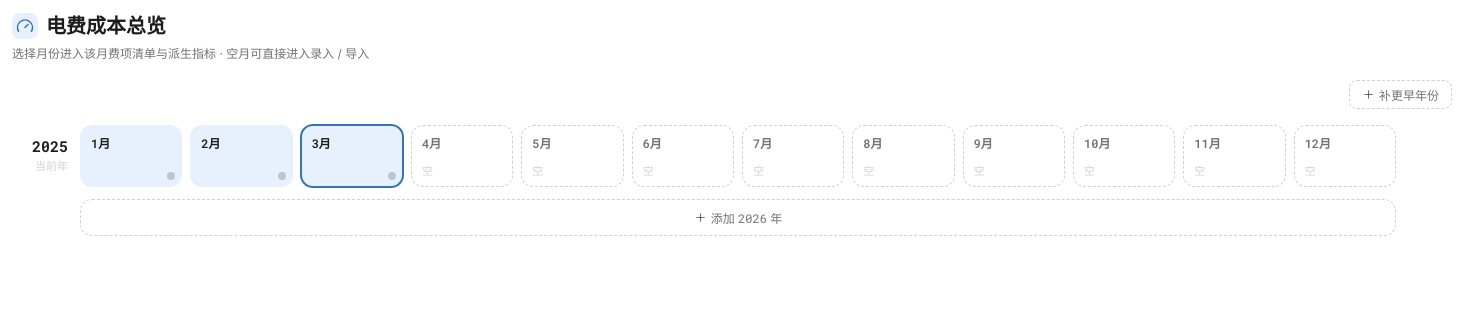
Test: 电费成本总览 · 首败不转圈 › ❗第一次选期就失败 → 失败条 + 重试,不是永久转圈
Click the button with class "bmm-card" showing "3月".
click(352, 156)  # box x1=301 y1=125 x2=403 y2=187
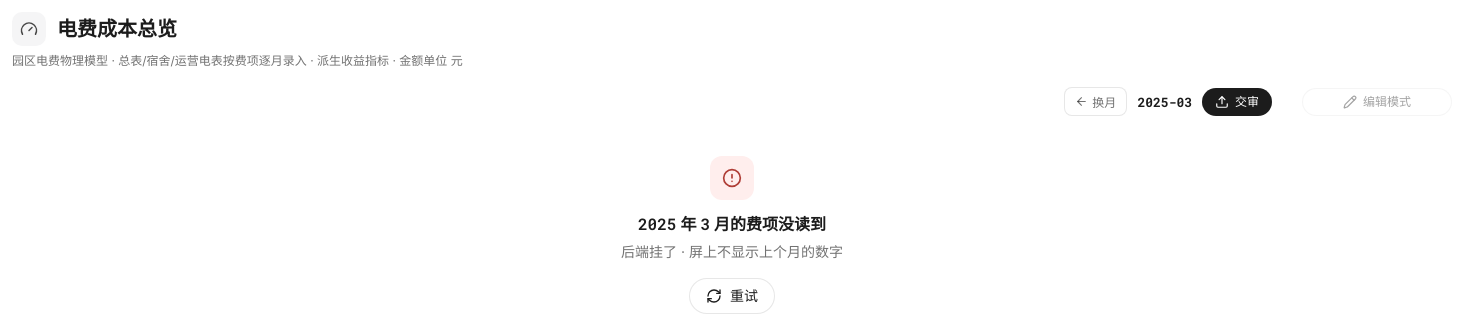
Expected: the message "2025 年 3 月的费项没读到 后端挂了 · 屏上不显示上个月的数字 重试" is shown, x1=621 y1=156 x2=843 y2=314
Expected: the text "后端挂了" is shown, x1=621 y1=243 x2=843 y2=260
